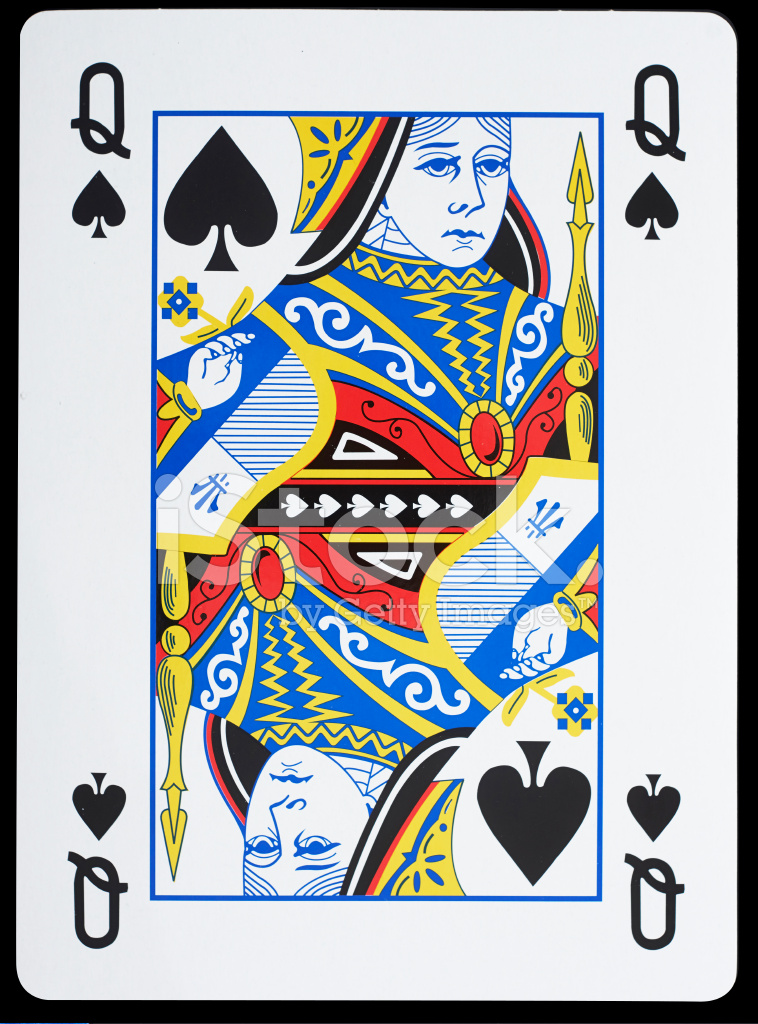queen of spades: (21, 14, 737, 999)
